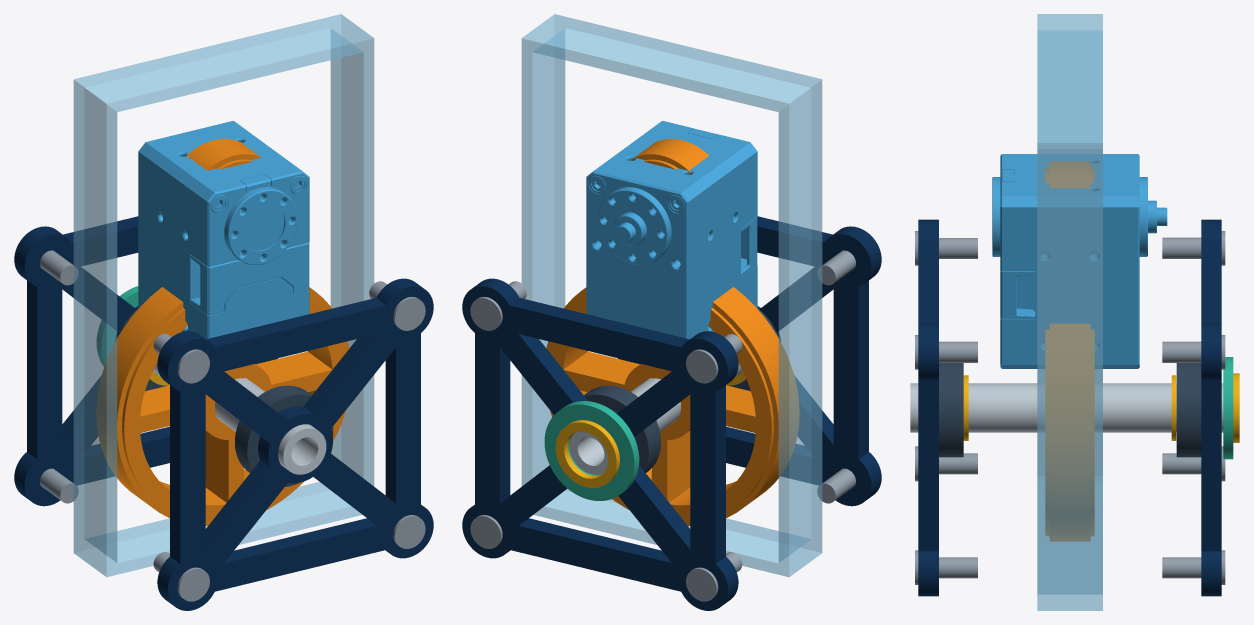
File: JMF-10-ANKLE-PITCH-REDUCED-25_assembly.glb
3 renders of one model, left to right at view 1: azimuth 30°, elevation 25°; view 2: azimuth 150°, elevation 25°; view 3: azimuth 270°, elevation 25°, orthographic.
Parts seen in each view (by area): view 1: TRANSMISSION_GUARD, CARRIER_A, ACTUATOR, CARRIER_B, OUTPUT_PULLEY, TIMING_BELT, OUTPUT_SHAFT, BEARING_A, CARRIER_A_SCREW_22, CARRIER_A_SCREW_21, CARRIER_A_SCREW_12, CARRIER_A_SCREW_11 (+3 smaller); view 2: TRANSMISSION_GUARD, CARRIER_B, ACTUATOR, CARRIER_A, OUTPUT_PULLEY, TIMING_BELT, OUTPUT_ENCODER_CARRIER, OUTPUT_MAGNET_HUB, OUTPUT_SHAFT, BEARING_B, CARRIER_B_SCREW_22, CARRIER_B_SCREW_21 (+4 smaller); view 3: TRANSMISSION_GUARD, ACTUATOR, TIMING_BELT, OUTPUT_SHAFT, CARRIER_A, CARRIER_B, BEARING_B, BEARING_A, OUTPUT_PULLEY, OUTPUT_ENCODER_CARRIER, CARRIER_B_SCREW_11, CARRIER_B_SCREW_12 (+7 smaller).
Boxes of the visible parts, bbox=[...] form: TRANSMISSION_GUARD: bbox=[73, 14, 374, 576]; CARRIER_A: bbox=[157, 278, 433, 610]; ACTUATOR: bbox=[138, 120, 309, 339]; CARRIER_B: bbox=[14, 216, 277, 506]; OUTPUT_PULLEY: bbox=[122, 295, 346, 521]; TIMING_BELT: bbox=[96, 139, 349, 525]; OUTPUT_SHAFT: bbox=[153, 363, 326, 474]; BEARING_A: bbox=[235, 385, 333, 486]; CARRIER_A_SCREW_22: bbox=[153, 334, 209, 383]; CARRIER_A_SCREW_21: bbox=[153, 552, 209, 601]; CARRIER_A_SCREW_12: bbox=[369, 281, 425, 330]; CARRIER_A_SCREW_11: bbox=[393, 515, 425, 548]; TRANSMISSION_GUARD: bbox=[521, 14, 822, 576]; CARRIER_B: bbox=[462, 278, 738, 610]; ACTUATOR: bbox=[586, 120, 757, 339]; CARRIER_A: bbox=[618, 216, 881, 506]; OUTPUT_PULLEY: bbox=[549, 295, 773, 521]; TIMING_BELT: bbox=[546, 139, 799, 525]; OUTPUT_ENCODER_CARRIER: bbox=[544, 401, 639, 500]; OUTPUT_MAGNET_HUB: bbox=[555, 420, 619, 487]; OUTPUT_SHAFT: bbox=[569, 363, 742, 474]; BEARING_B: bbox=[584, 385, 660, 472]; CARRIER_B_SCREW_22: bbox=[686, 334, 742, 383]; CARRIER_B_SCREW_21: bbox=[686, 552, 742, 601]; TRANSMISSION_GUARD: bbox=[1037, 14, 1102, 610]; ACTUATOR: bbox=[992, 154, 1167, 368]; TIMING_BELT: bbox=[1050, 161, 1090, 541]; OUTPUT_SHAFT: bbox=[910, 383, 1223, 432]; CARRIER_A: bbox=[918, 219, 938, 596]; CARRIER_B: bbox=[1201, 219, 1221, 596]; BEARING_B: bbox=[1176, 363, 1201, 457]; BEARING_A: bbox=[939, 363, 963, 457]; OUTPUT_PULLEY: bbox=[1045, 330, 1094, 535]; OUTPUT_ENCODER_CARRIER: bbox=[1223, 357, 1233, 459]; CARRIER_B_SCREW_11: bbox=[1162, 550, 1225, 584]; CARRIER_B_SCREW_12: bbox=[1162, 335, 1225, 369].
Size of the model in its own units: 74.52 by 126 by 80.4.
